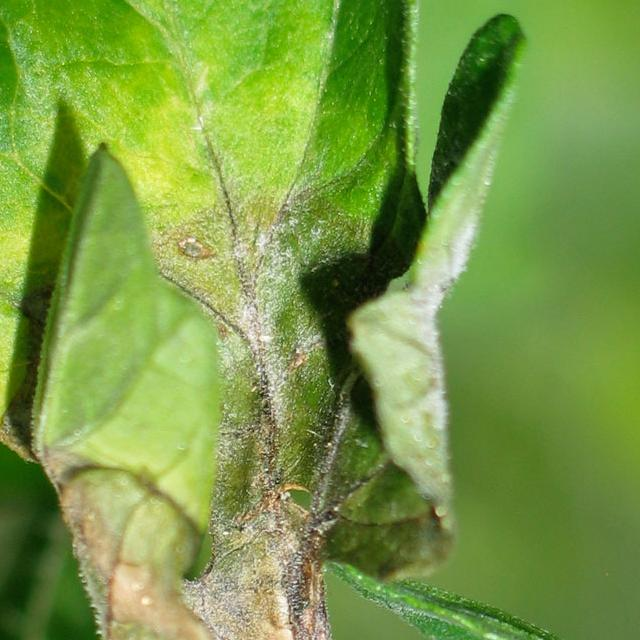Tomato leaf late blight: (0, 0, 518, 640)
